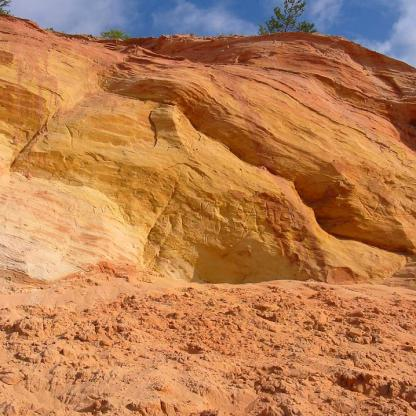Sedimentary_Sandstone: (32, 93, 324, 277), (181, 64, 415, 278)
